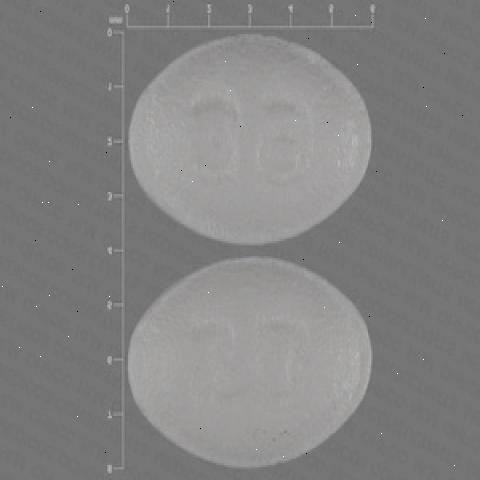Pill: (122, 26, 404, 256), (118, 257, 405, 472)
